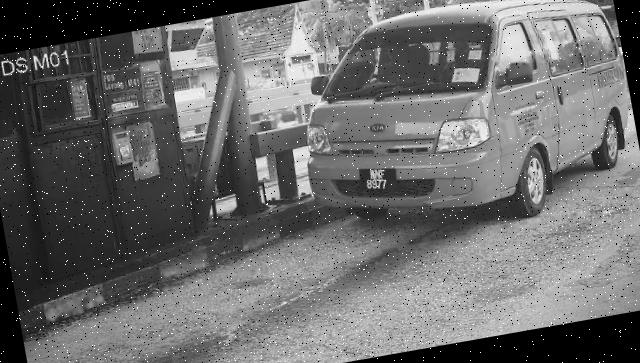License_Plate: (357, 163, 401, 200)
van: (285, 1, 640, 253)
